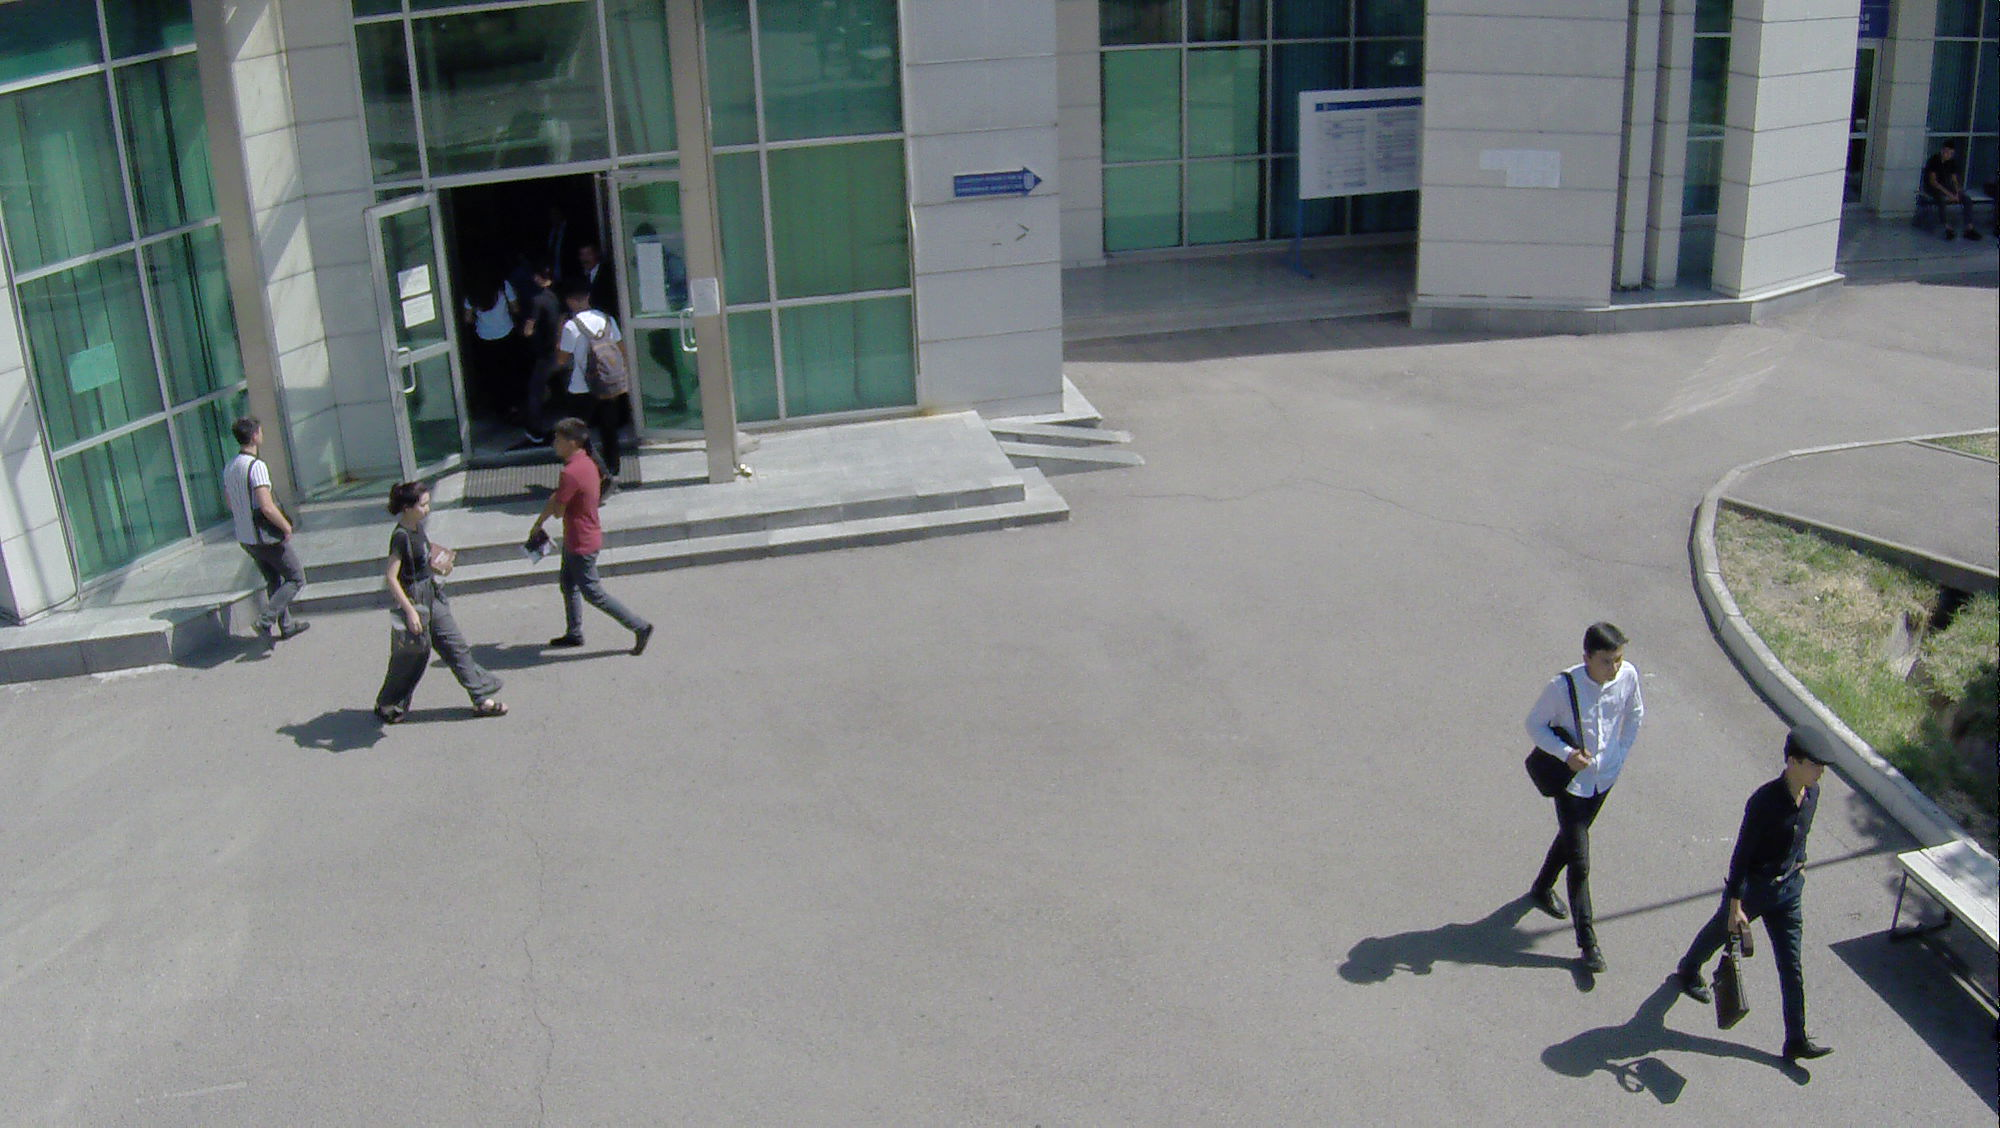person: (1676, 712, 1837, 1085), (1516, 614, 1643, 993), (357, 470, 516, 733), (530, 422, 674, 683), (214, 422, 314, 653), (551, 293, 635, 443)
